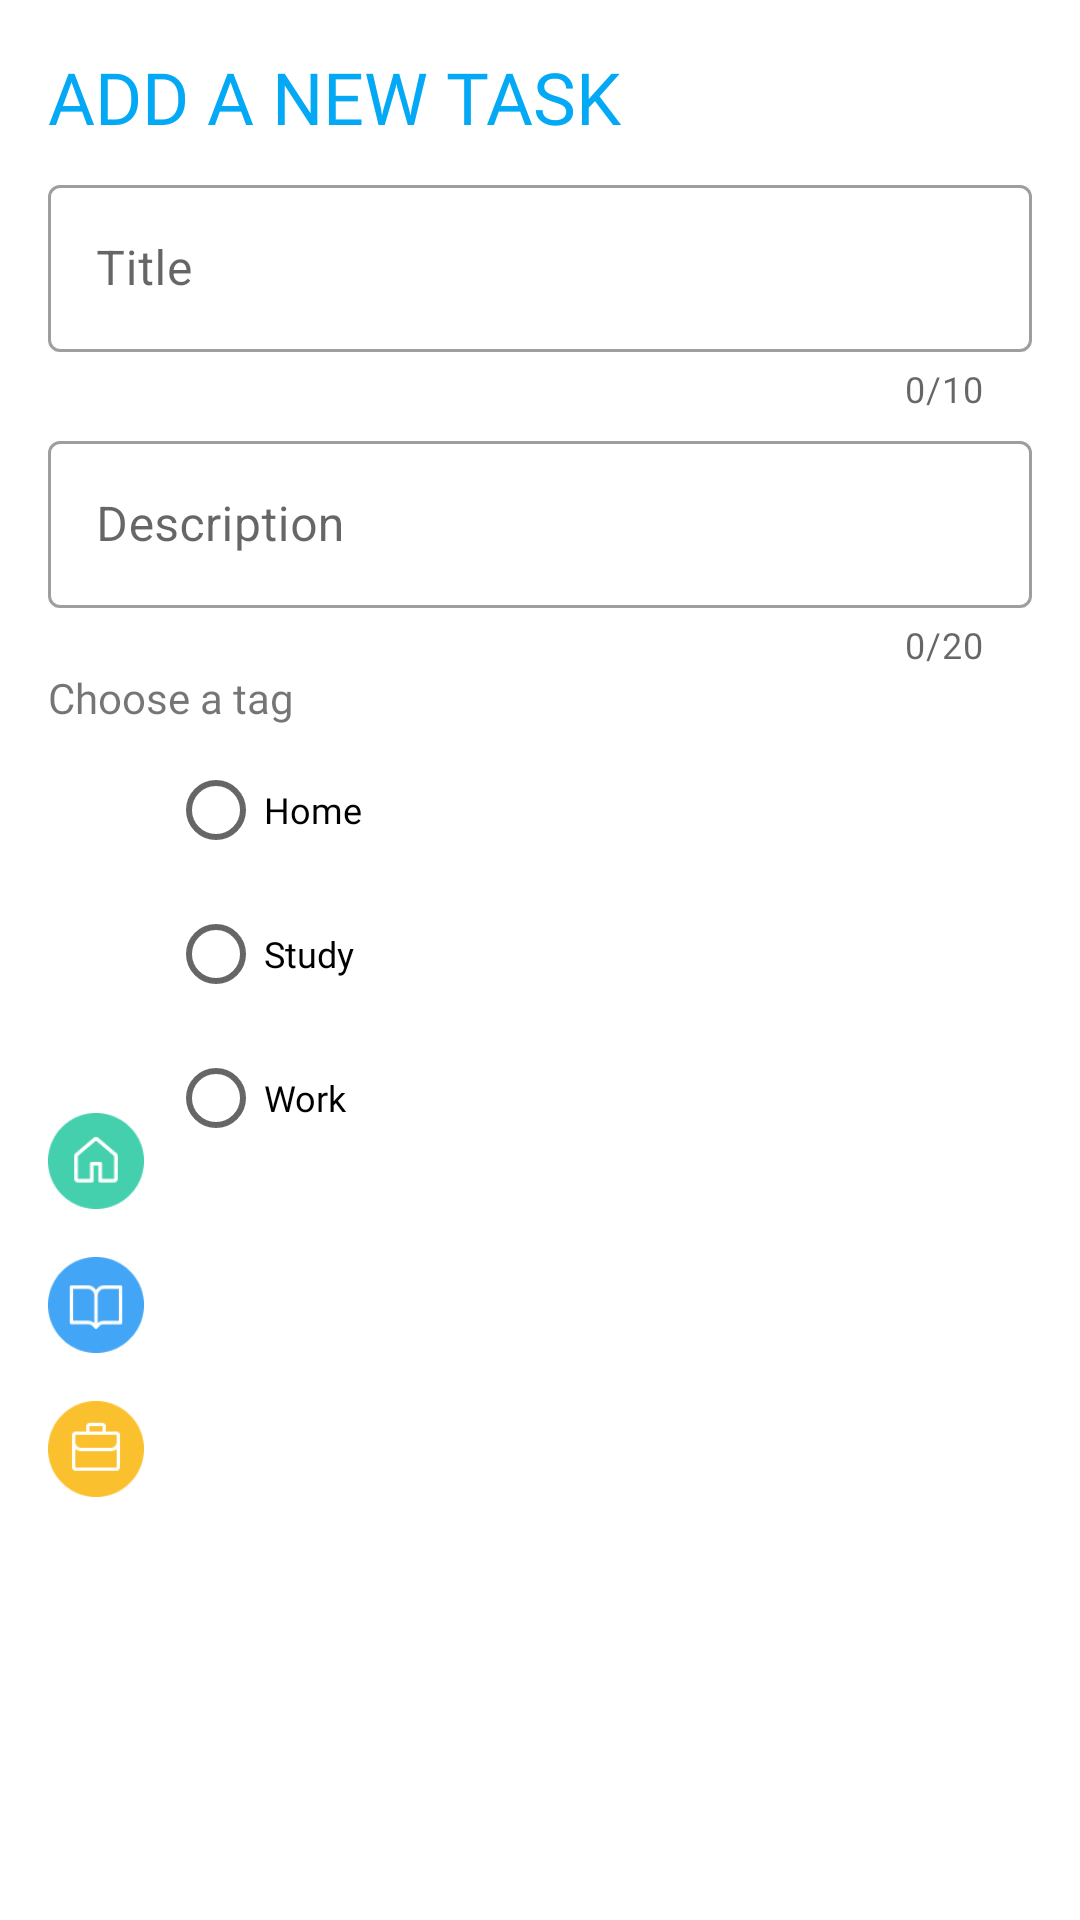

Locate icon controls on the screen. Image size 1080px x 1920px, boxes as BBox(x1, y1, x2, y2).
Home Tag: BBox(48, 1113, 144, 1209)
Study Tag: BBox(48, 1257, 144, 1353)
Work Tag: BBox(48, 1401, 144, 1497)
